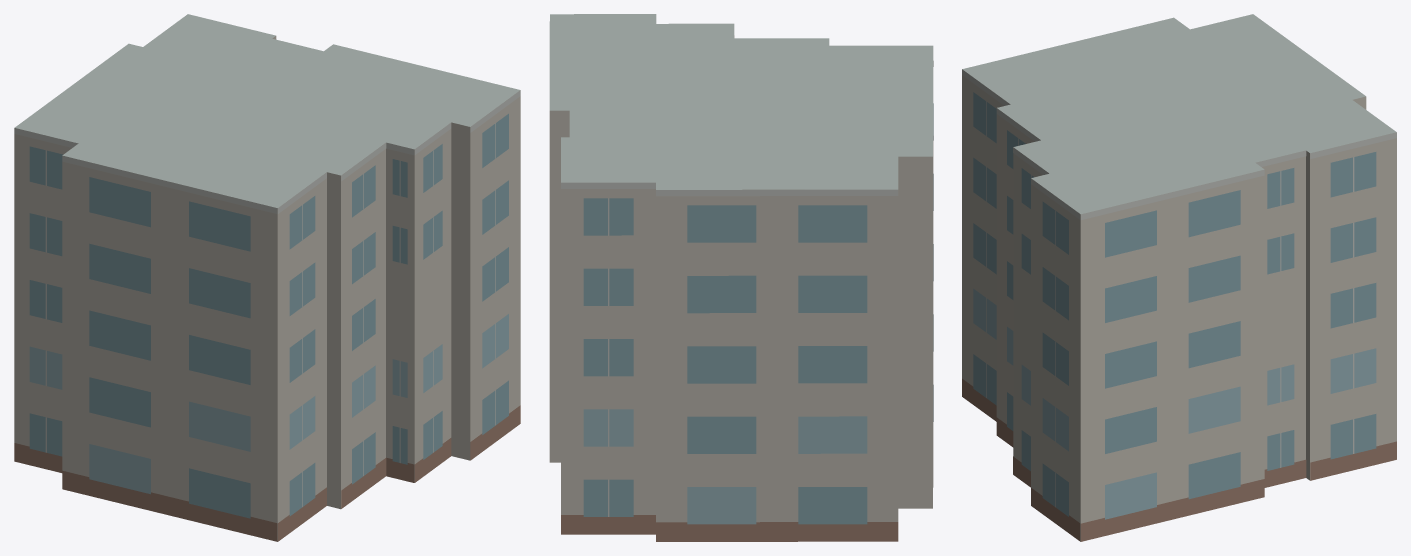
The model's file is survey-upis-32982495.glb.
3 renders of one model, left to right at view 1: azimuth 30°, elevation 25°; view 2: azimuth 150°, elevation 25°; view 3: azimuth 270°, elevation 25°, orthographic. The views are drawn at different scales.
Visible parts, largest first — view 1: survey-upis-32982495.tmp; view 2: survey-upis-32982495.tmp; view 3: survey-upis-32982495.tmp.
Boxes of the visible parts, x1,y1,x2,y2 form: survey-upis-32982495.tmp: (14,14,520,541); survey-upis-32982495.tmp: (549,14,933,541); survey-upis-32982495.tmp: (962,14,1396,541).
Bounding box in the file's own units: 17.65 × 13.45 × 16.19.
